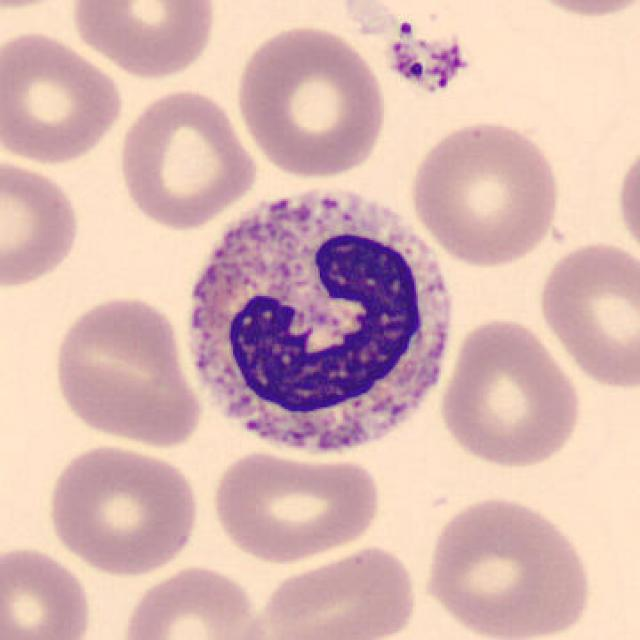Neutrophil: (172, 171, 468, 474)
RBC: (418, 492, 596, 640), (231, 21, 391, 180), (406, 116, 566, 270), (48, 291, 203, 448), (435, 314, 585, 471), (42, 441, 202, 578), (204, 446, 386, 566), (113, 84, 260, 232), (0, 26, 126, 168), (251, 541, 421, 640), (534, 236, 638, 392), (68, 0, 220, 81), (117, 562, 267, 640), (0, 153, 84, 291), (0, 541, 96, 640), (611, 134, 640, 266), (510, 0, 640, 19), (0, 0, 80, 14)
